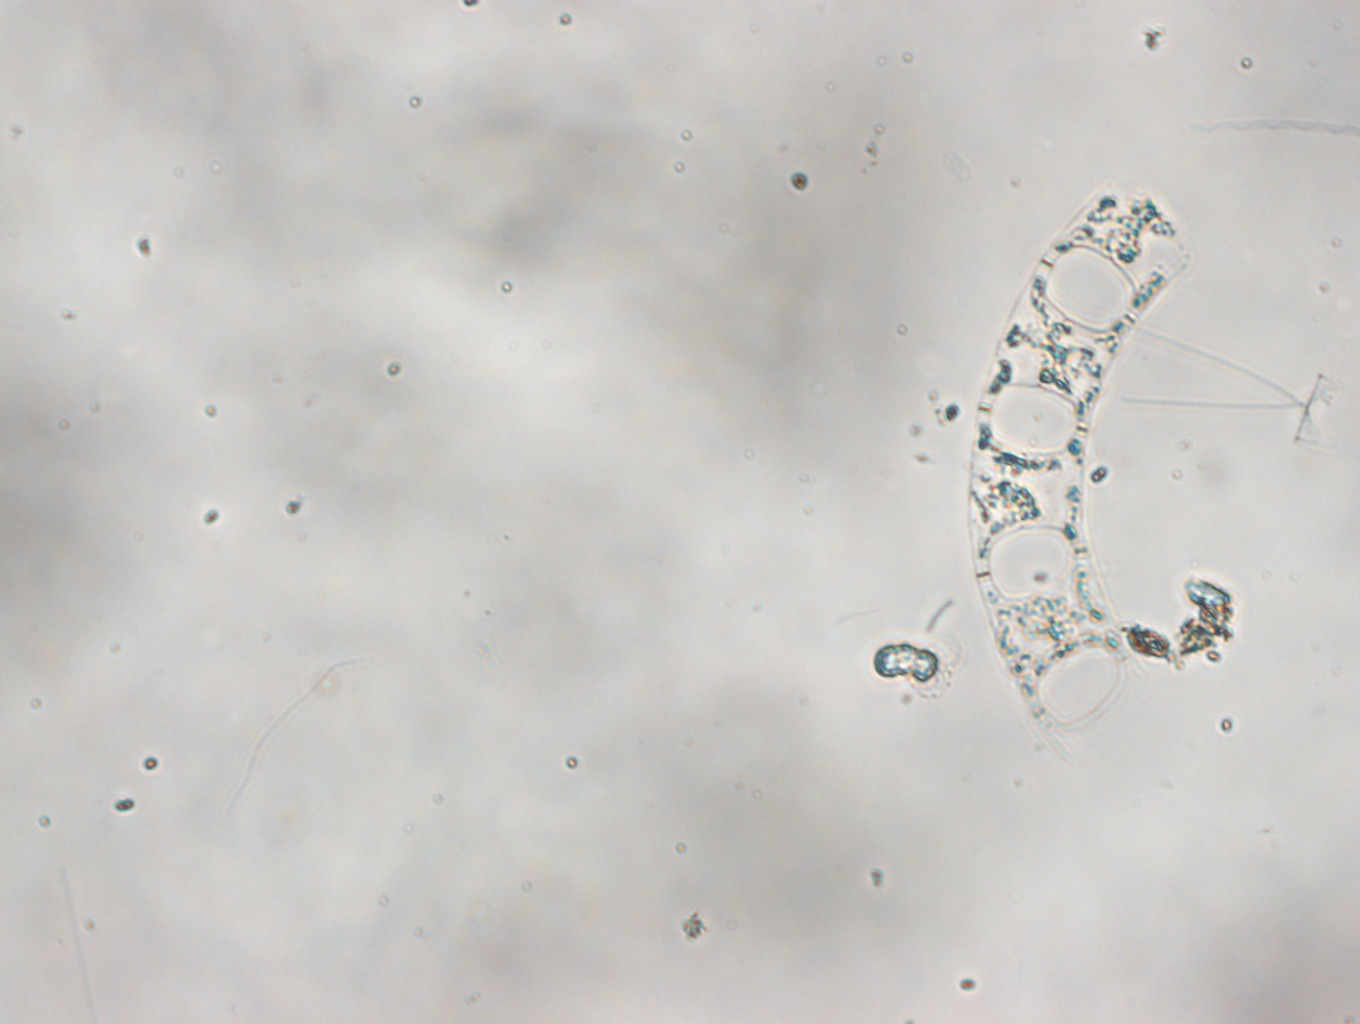eucampia: (960, 173, 1191, 756)
